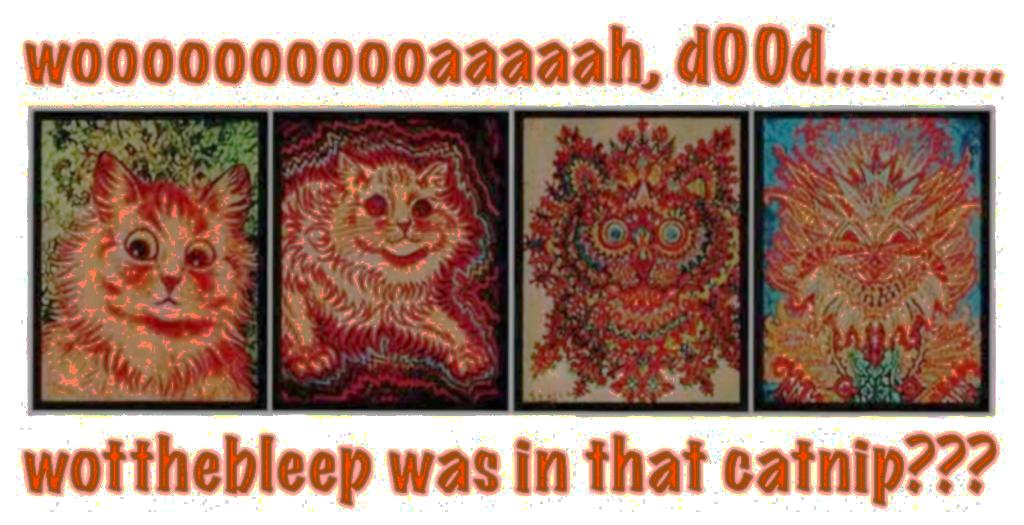Owl: (522, 122, 738, 398)
